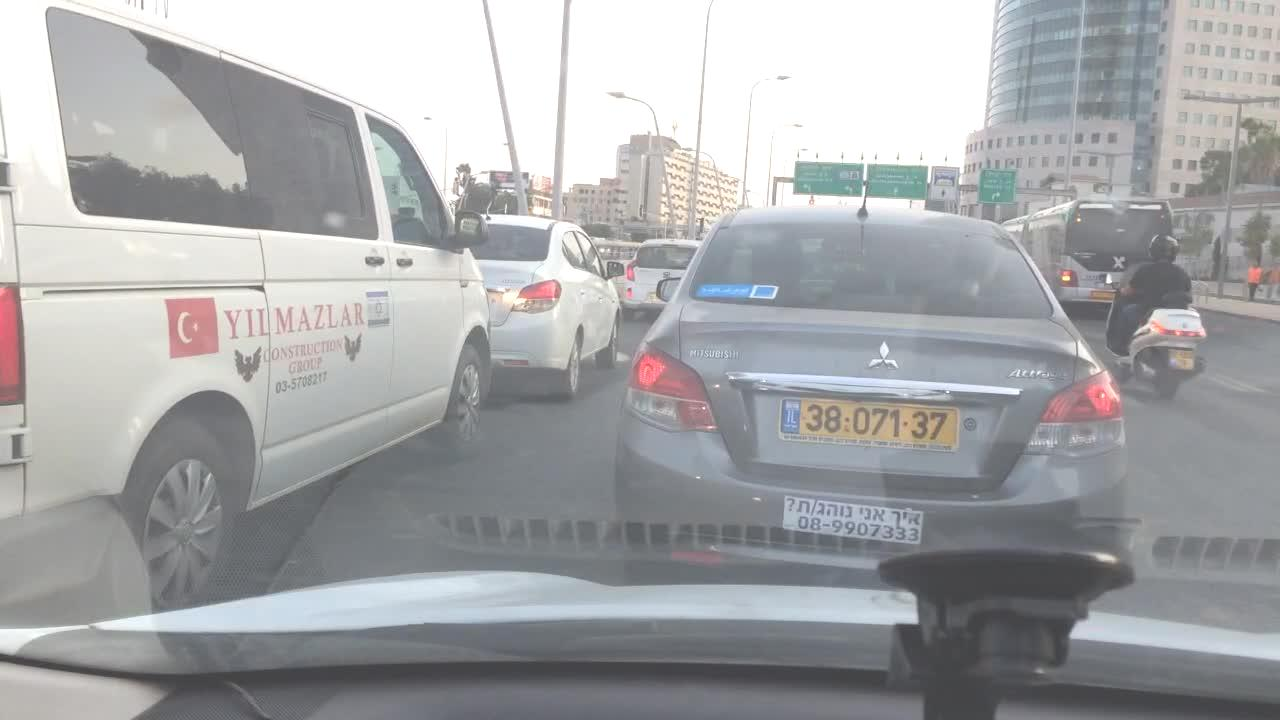Mitsubishi: (864, 335, 903, 375)
